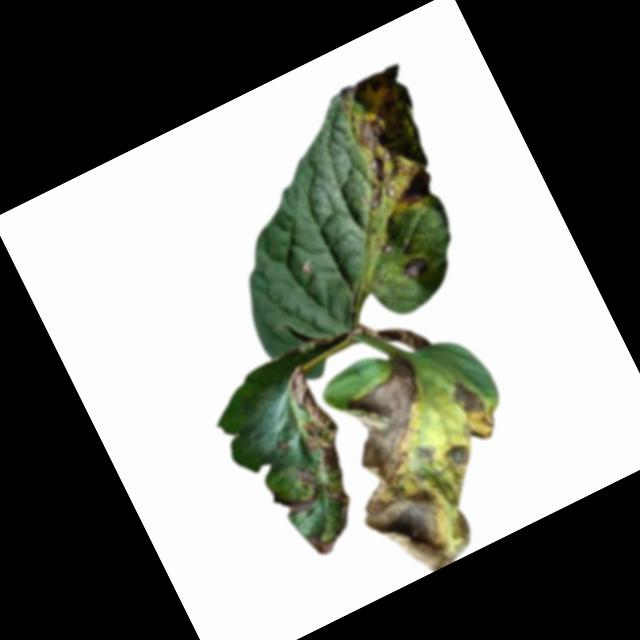Early_blight: (306, 345, 512, 589), (315, 61, 459, 228), (277, 367, 353, 480), (350, 298, 438, 373), (443, 369, 504, 446), (318, 480, 359, 534), (275, 484, 319, 521), (305, 525, 341, 559), (399, 251, 434, 283), (293, 460, 319, 488)
